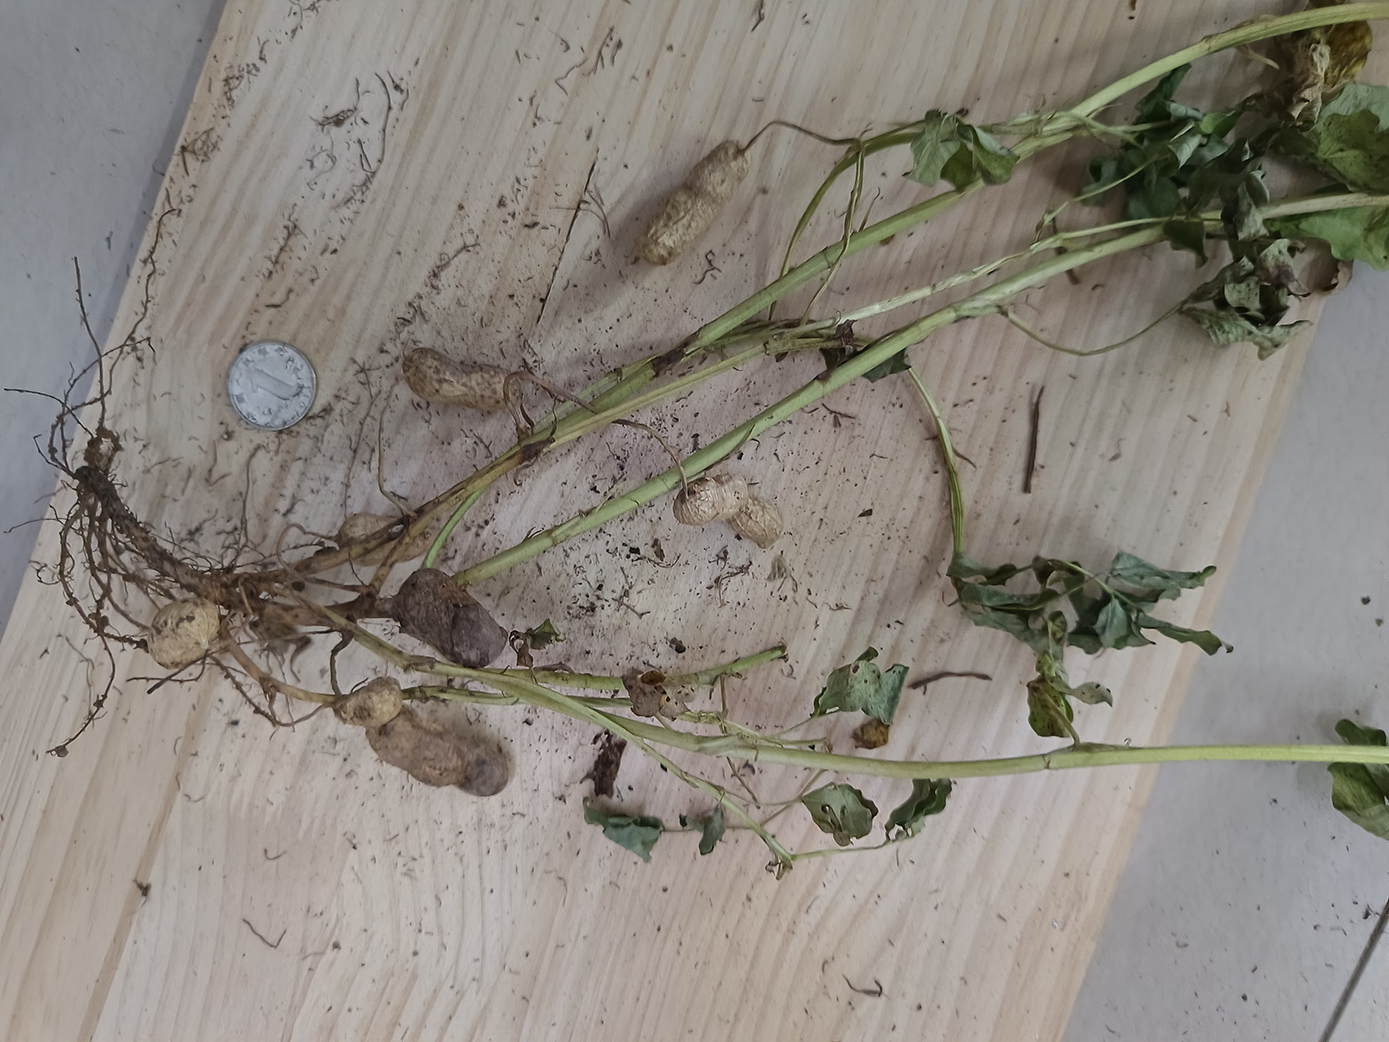h: (645, 140, 749, 264), (676, 468, 783, 548), (400, 347, 517, 414), (340, 511, 437, 564), (149, 600, 221, 667), (339, 679, 400, 725)
l: (369, 710, 506, 797), (396, 569, 509, 670)
